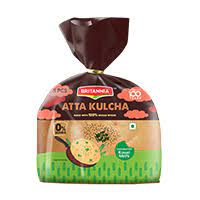bread: (36, 15, 160, 184)
